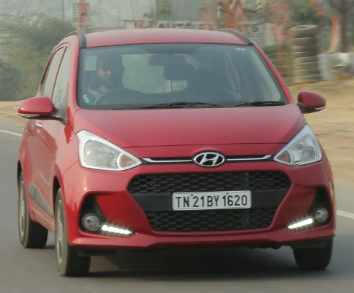car: (10, 28, 343, 277)
